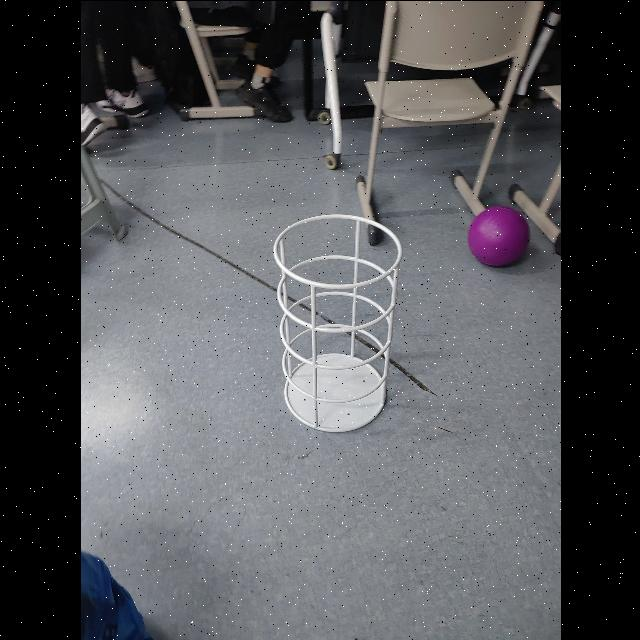S: (272, 204, 403, 430)
